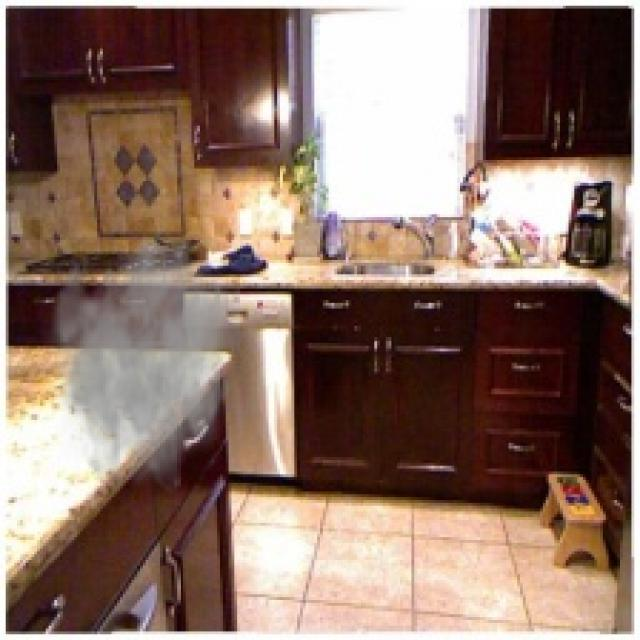smoke: (37, 226, 240, 500)
